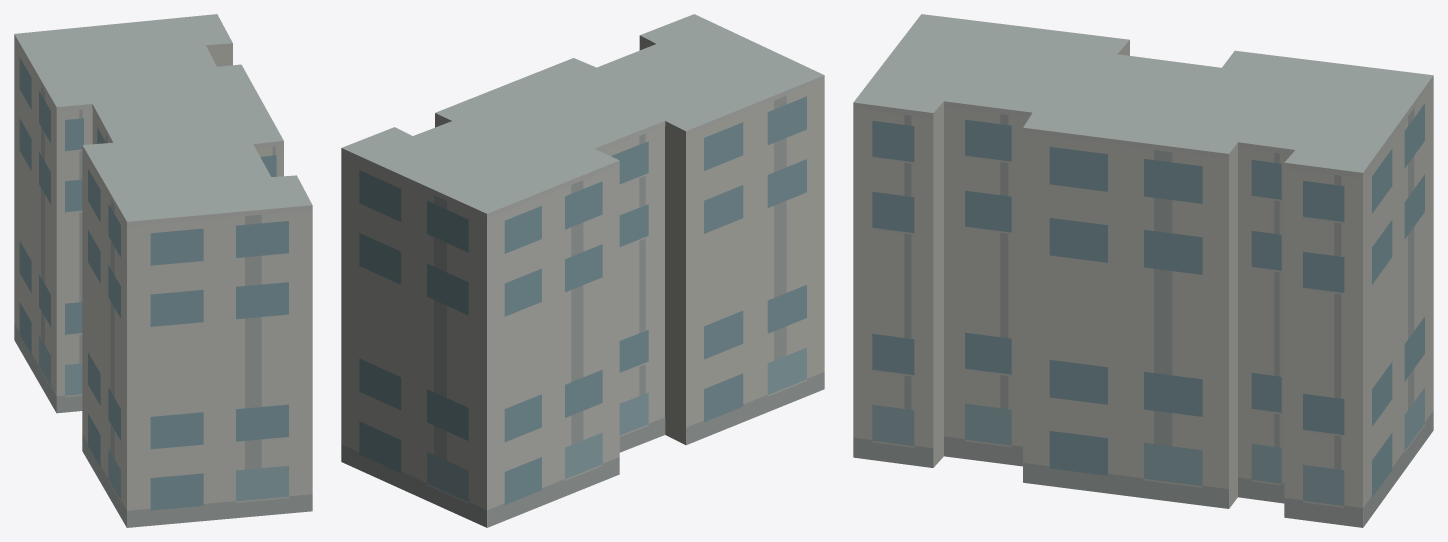
Rendered from survey-upis-32821496.glb.
3 views of the same model, side by side, from view 1: azimuth 30°, elevation 25°; view 2: azimuth 150°, elevation 25°; view 3: azimuth 270°, elevation 25° (orthographic). The views are drawn at different scales.
Parts seen in each view (by area): view 1: survey-upis-32821496.tmp; view 2: survey-upis-32821496.tmp; view 3: survey-upis-32821496.tmp.
Boxes of the visible parts, x1=… form: survey-upis-32821496.tmp: x1=14, y1=14, x2=312, y2=527; survey-upis-32821496.tmp: x1=341, y1=14, x2=824, y2=527; survey-upis-32821496.tmp: x1=853, y1=14, x2=1433, y2=527.
Size of the model in its own units: 14.69 by 15.3 by 22.68.
